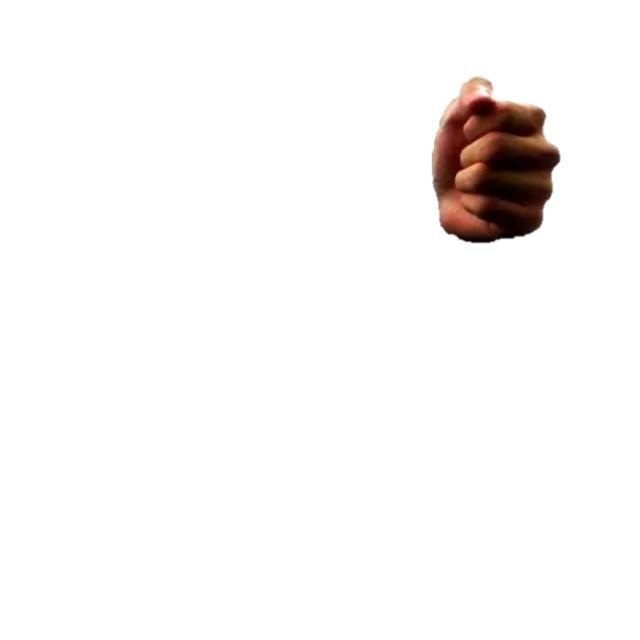gu-: (429, 75, 562, 247)
